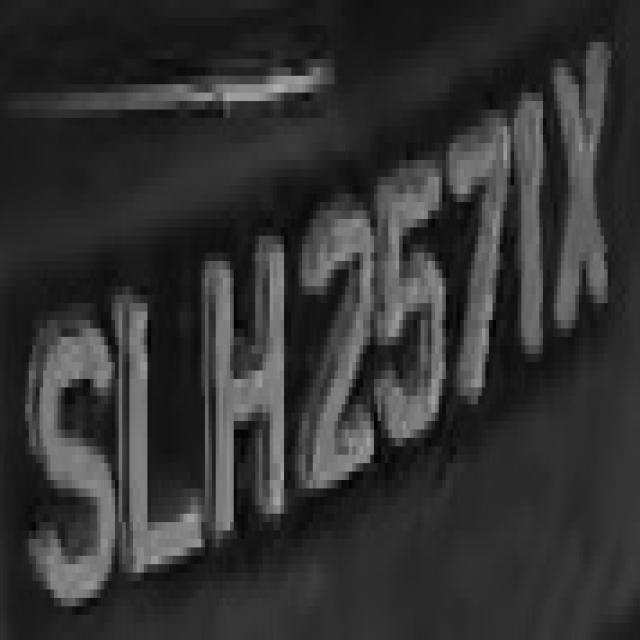1: (503, 59, 554, 370)
2: (299, 160, 381, 514)
5: (374, 126, 449, 455)
7: (431, 110, 507, 412)
H: (194, 210, 291, 556)
L: (111, 261, 198, 581)
S: (25, 269, 115, 606)
X: (547, 34, 622, 362)
